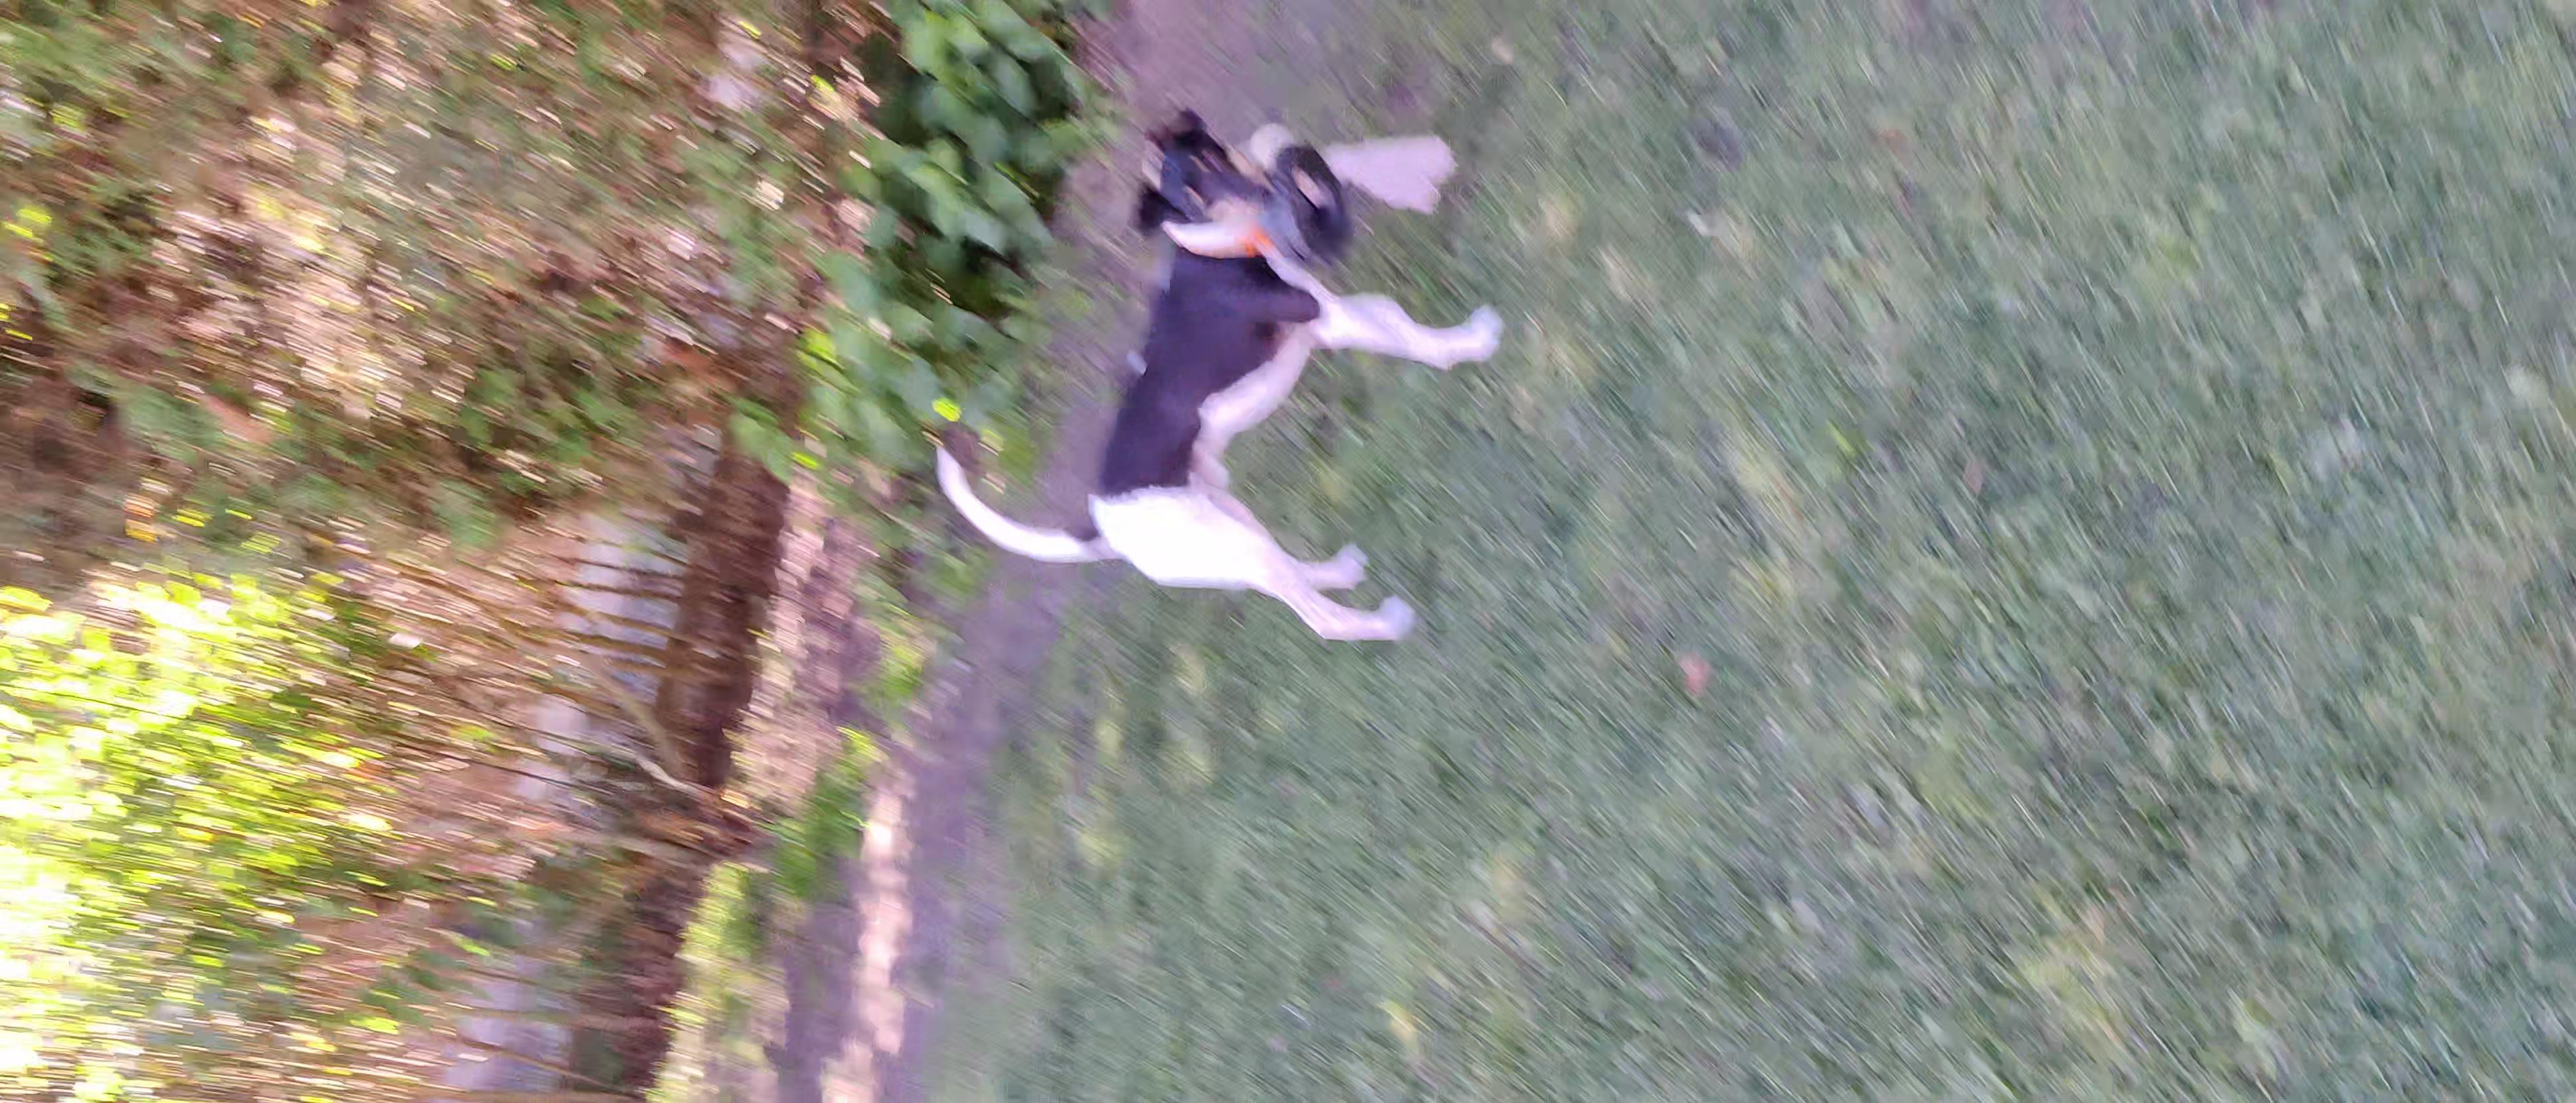Dog: (928, 105, 1505, 646)
